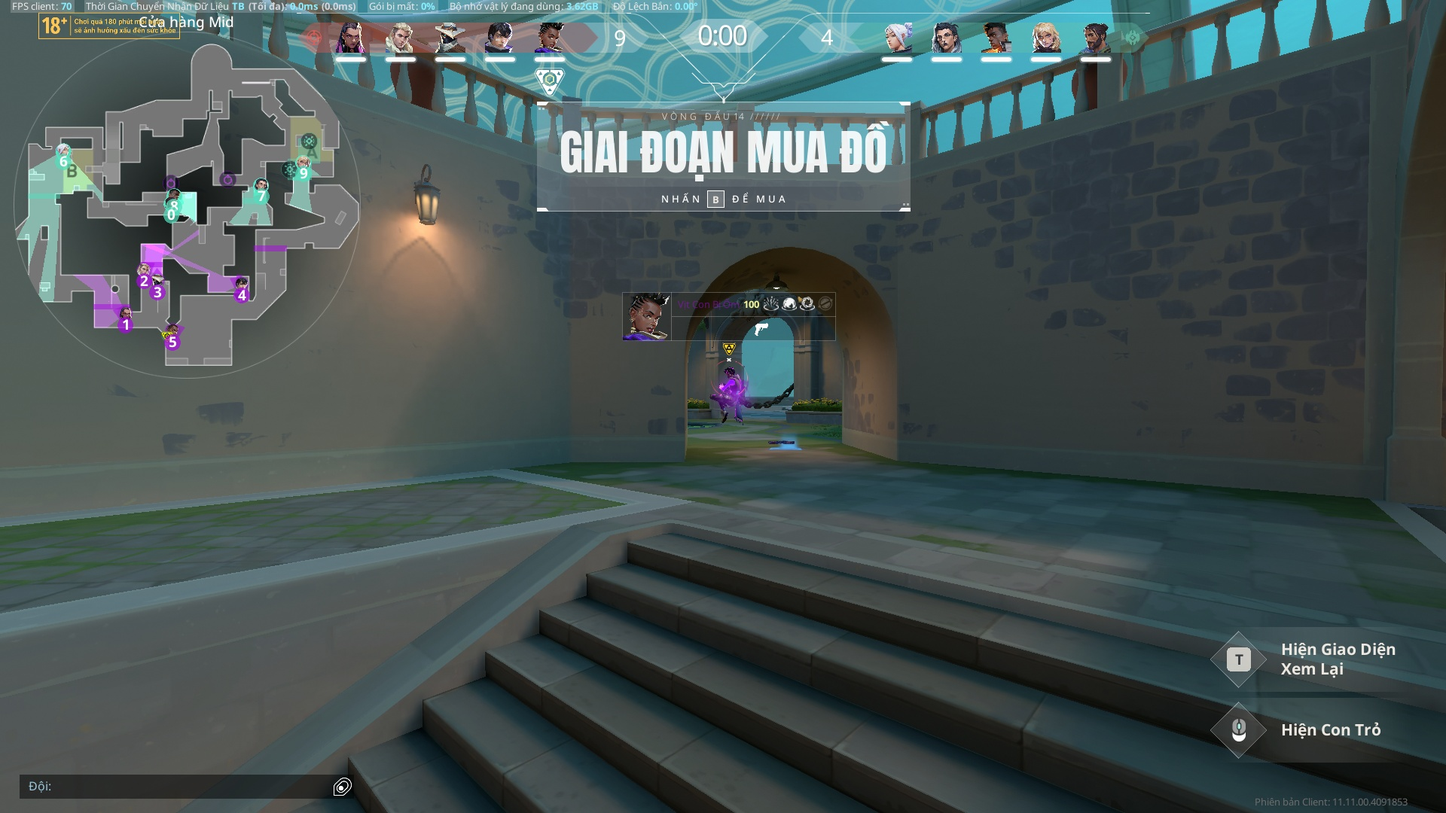body: (726, 377, 743, 396)
head: (725, 367, 736, 379)
